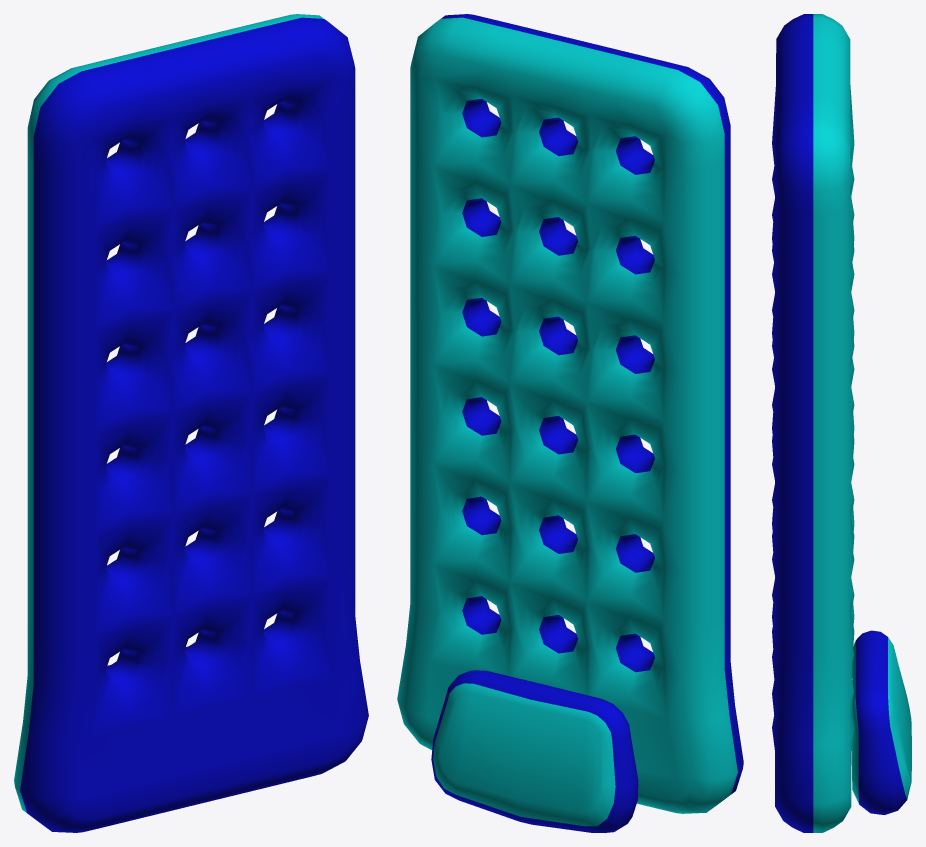
Rendered from PoolToy01.fbx.
3 views of the same model, side by side, from view 1: azimuth 30°, elevation 25°; view 2: azimuth 150°, elevation 25°; view 3: azimuth 270°, elevation 25° (orthographic). The views are drawn at different scales.
Visible parts, largest first — view 1: PoolToy01; view 2: PoolToy01; view 3: PoolToy01.
Part boxes in pixels (x1,y1,x2,y2): PoolToy01: [14, 14, 368, 832]; PoolToy01: [397, 14, 743, 832]; PoolToy01: [772, 14, 911, 832].
Size of the model in its own units: 101 by 217 by 38.34.
